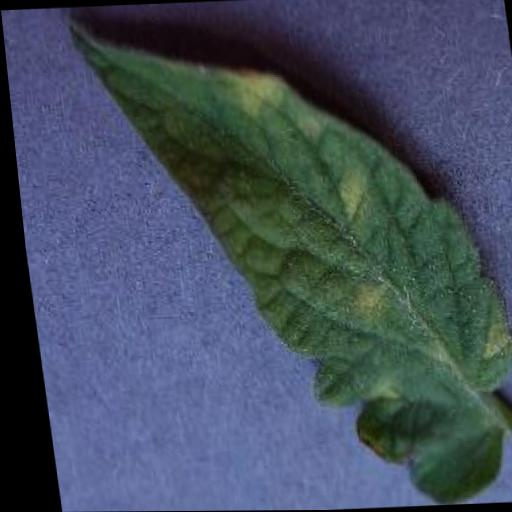Leaf Mold: (62, 3, 512, 512)
